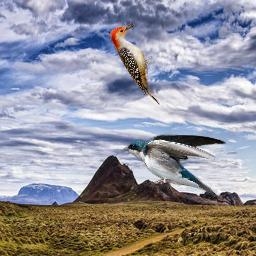Swallow: (123, 133, 226, 197)
Woodpecker: (110, 22, 160, 106)
